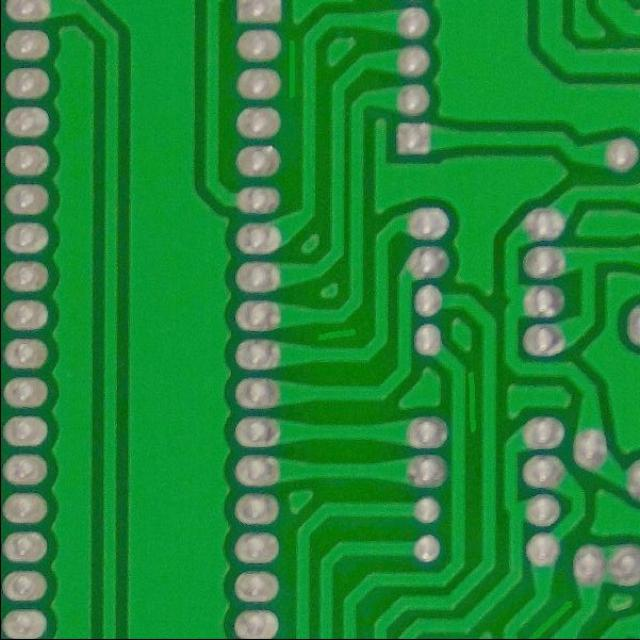spurious_copper: (520, 591, 582, 638), (457, 370, 484, 440), (278, 34, 300, 106), (308, 326, 366, 343)
